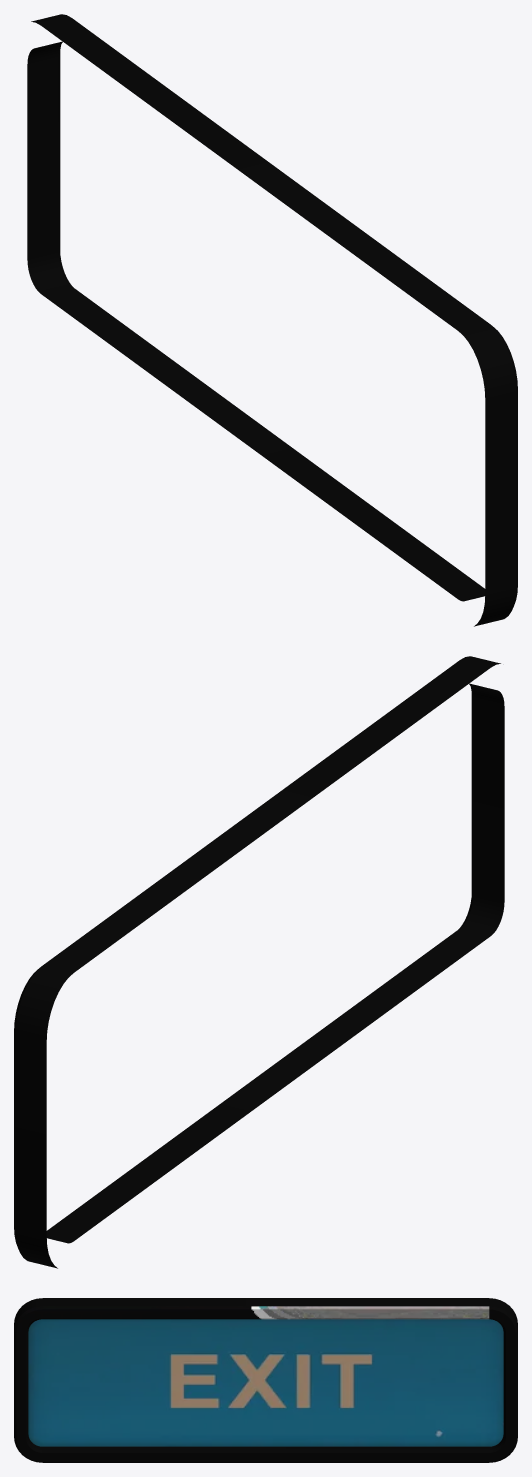
3 renders of one model, top to bottom at view 1: azimuth 30°, elevation 25°; view 2: azimuth 150°, elevation 25°; view 3: azimuth 270°, elevation 25°, orthographic. The views are drawn at different scales.
Parts seen in each view (by area): view 1: body0_model0_lod0_mesh0; view 2: body0_model0_lod0_mesh0; view 3: body0_model0_lod0_mesh0.
Boxes of the visible parts, <box> form: body0_model0_lod0_mesh0: <box>27,14,517,626</box>; body0_model0_lod0_mesh0: <box>14,656,504,1268</box>; body0_model0_lod0_mesh0: <box>14,1298,517,1462</box>.
Bounding box in the file's own units: 3 × 24 × 70.
Materials: 1 (1 with a texture image).
